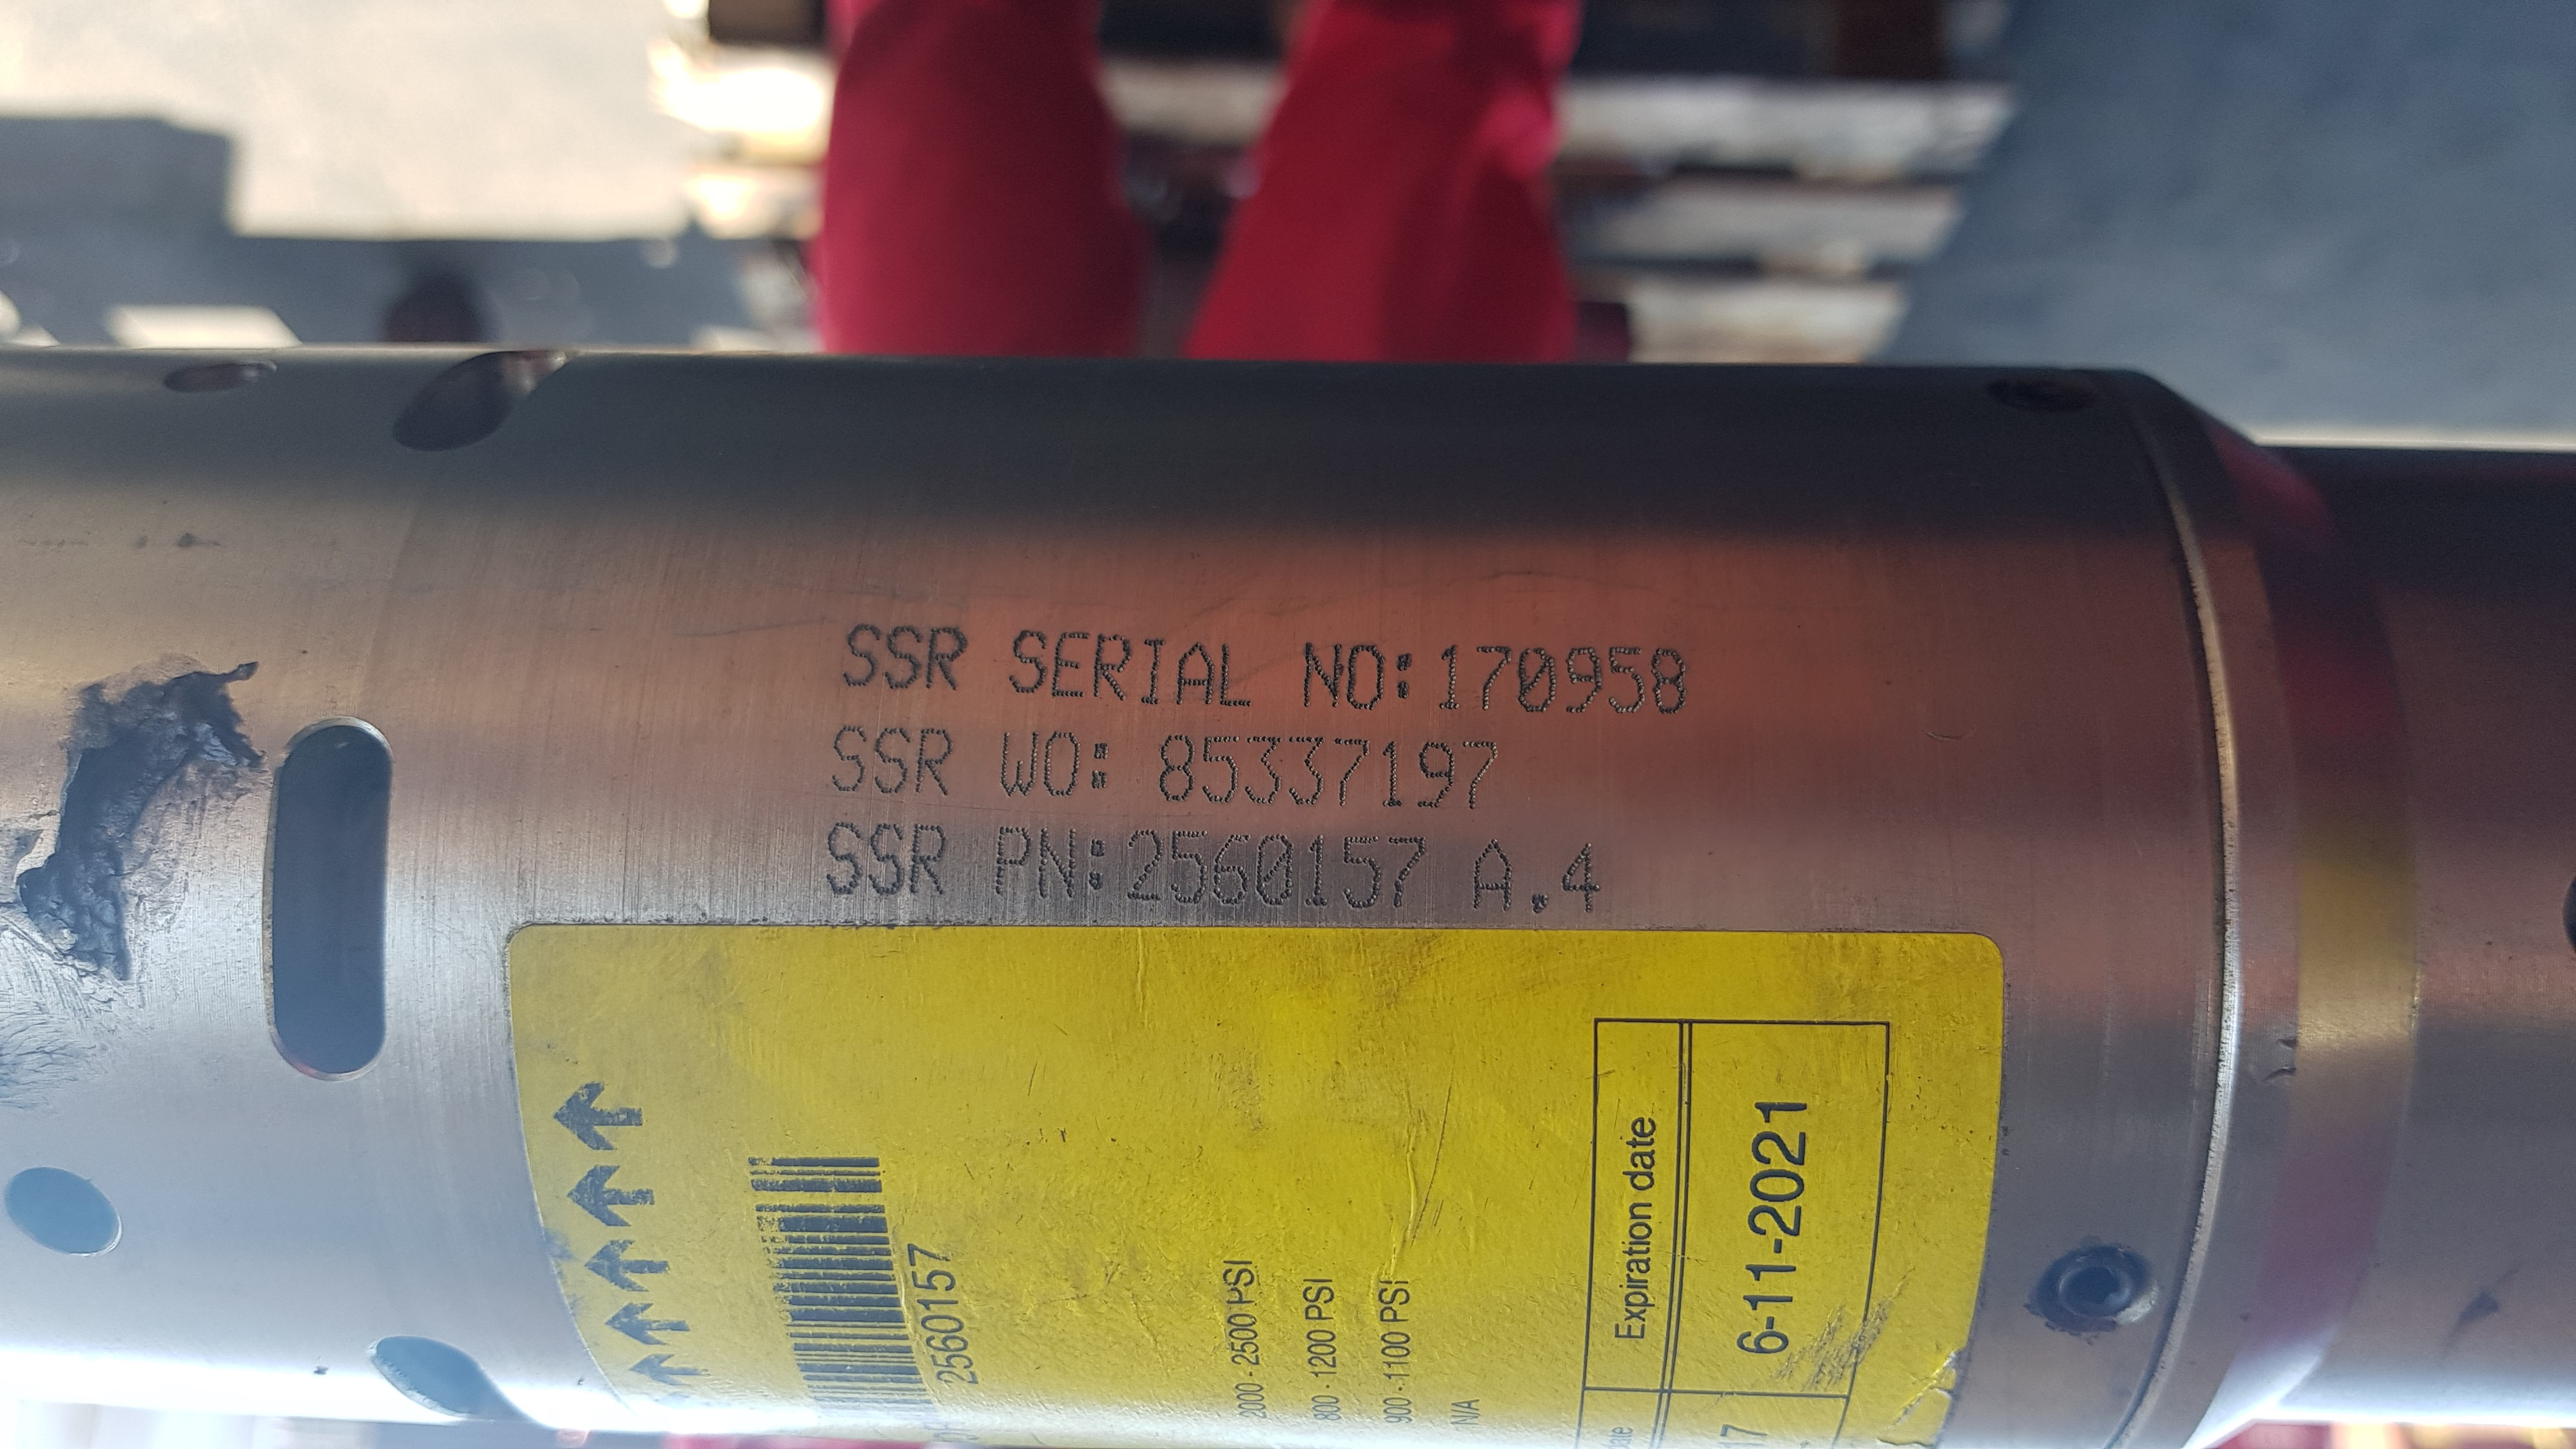character: (863, 821, 913, 908), (1122, 823, 1171, 909), (1341, 826, 1391, 913), (1511, 639, 1562, 722), (1599, 637, 1651, 720), (1644, 640, 1693, 724), (1166, 821, 1212, 909), (1208, 828, 1256, 913), (1031, 826, 1083, 904), (839, 612, 883, 701), (1456, 732, 1502, 817), (1470, 833, 1516, 918), (1559, 833, 1605, 918), (913, 724, 961, 805), (906, 821, 952, 904), (927, 621, 977, 697), (1244, 729, 1286, 817), (1092, 626, 1138, 708), (987, 817, 1033, 899), (1299, 637, 1345, 715), (994, 722, 1040, 800), (1214, 637, 1261, 711), (874, 720, 916, 803), (1258, 823, 1295, 916), (1007, 625, 1051, 702), (1330, 732, 1375, 810), (1295, 828, 1334, 916), (1387, 830, 1426, 918), (1345, 637, 1385, 720), (1286, 729, 1327, 812), (1175, 635, 1217, 715), (1198, 731, 1242, 807), (830, 720, 872, 798), (821, 821, 863, 899), (1039, 725, 1083, 800), (1566, 642, 1606, 722), (1430, 633, 1470, 711), (1476, 637, 1514, 718), (1157, 729, 1198, 807), (1056, 626, 1093, 704), (1421, 734, 1456, 816), (885, 625, 922, 701), (1376, 738, 1412, 814), (1139, 628, 1169, 708), (1088, 732, 1115, 801), (1514, 885, 1560, 924), (1086, 839, 1113, 890), (1391, 648, 1415, 701)
